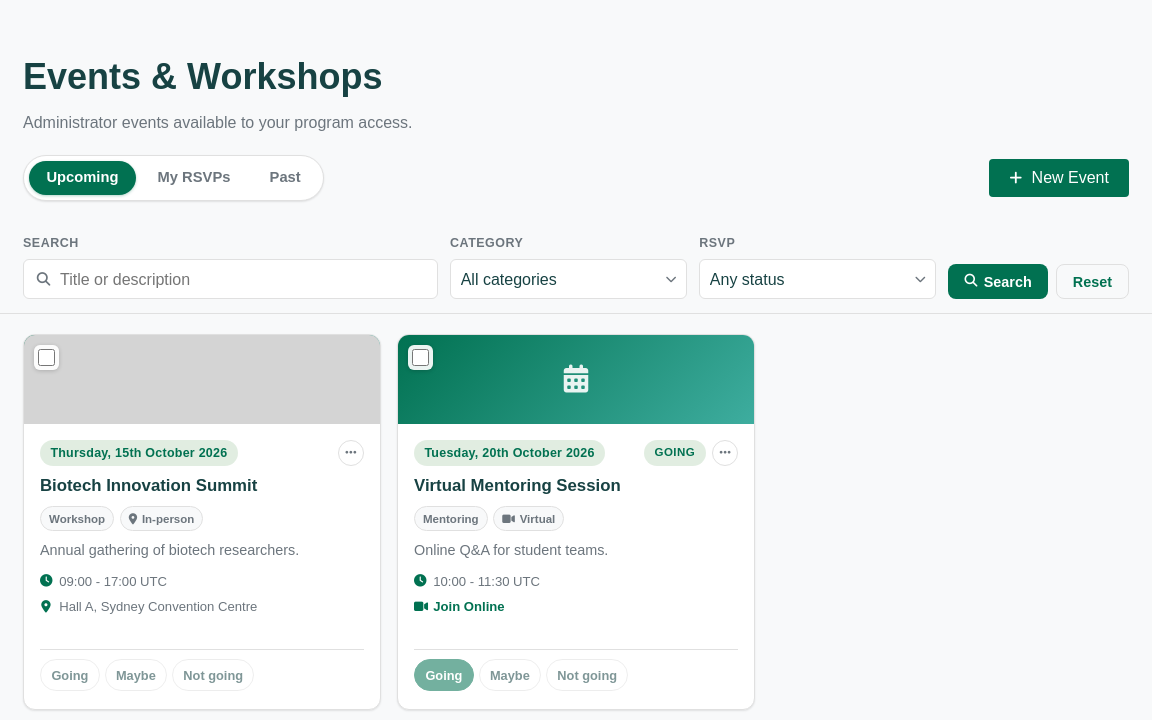
EventsPage - Admin Integration & Role Access › Admin Access View › opens Edit Event form sheet when clicking Edit in dropdown
Open menu
Click the 1st button with class "event-card-more-btn".
click(351, 453)  # box [338,440,364,466]
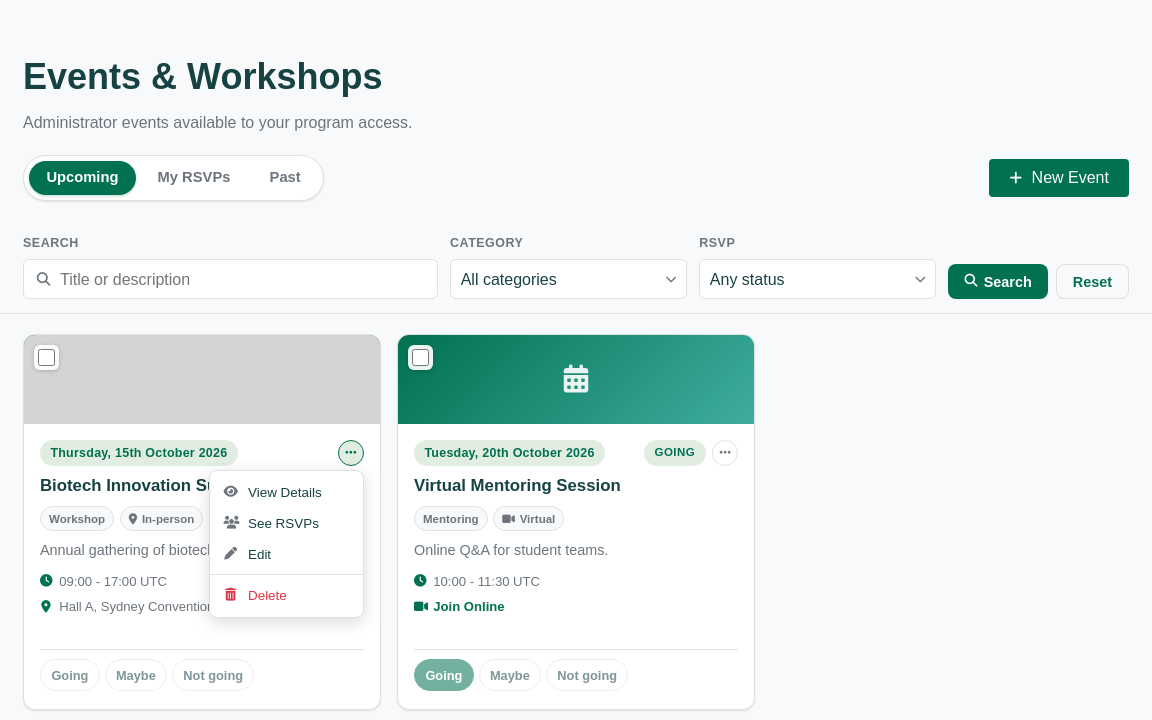
Expected: the menu item with class "event-card-dropdown-item" showing "Edit" is shown
Click the menu item with class "event-card-dropdown-item" showing "Edit".
click(286, 554)  # box [210,539,363,570]
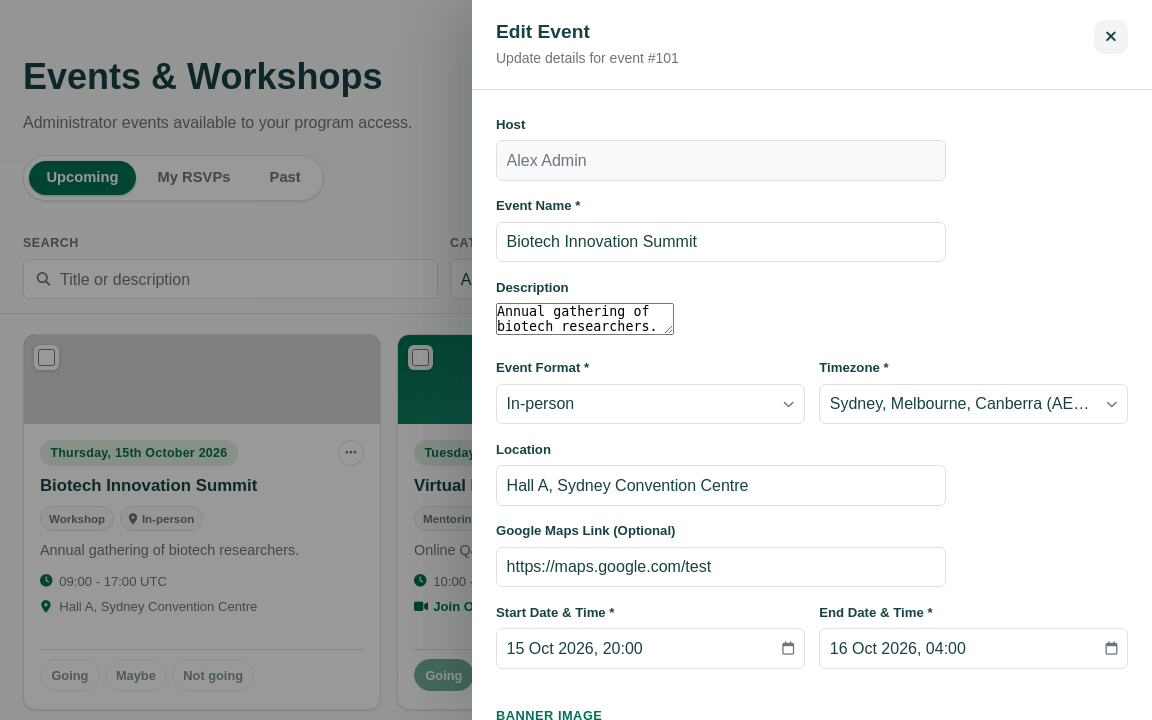
Expected: the dialog with class "admin-sheet" is shown
Expected: the dialog with class "admin-sheet" shows "Edit Event", [496,21,590,42]
Expected: the field with id "ev-name" holds "Biotech Innovation Summit", [496,222,946,262]
